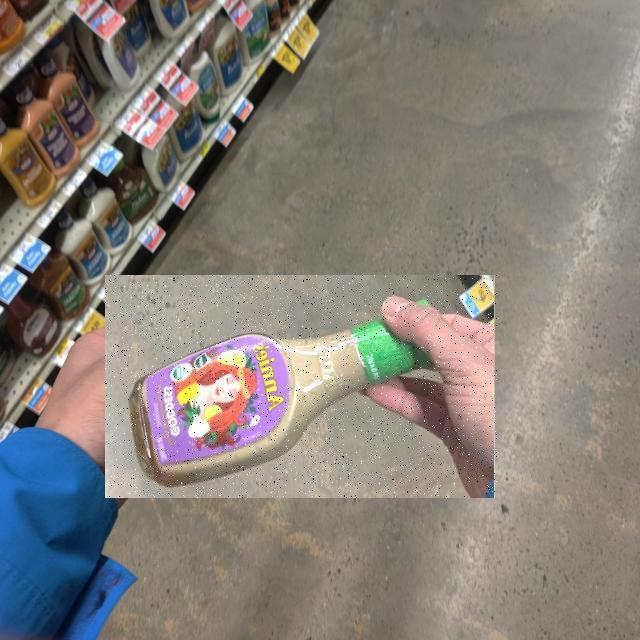Sauce: (106, 275, 498, 498)
